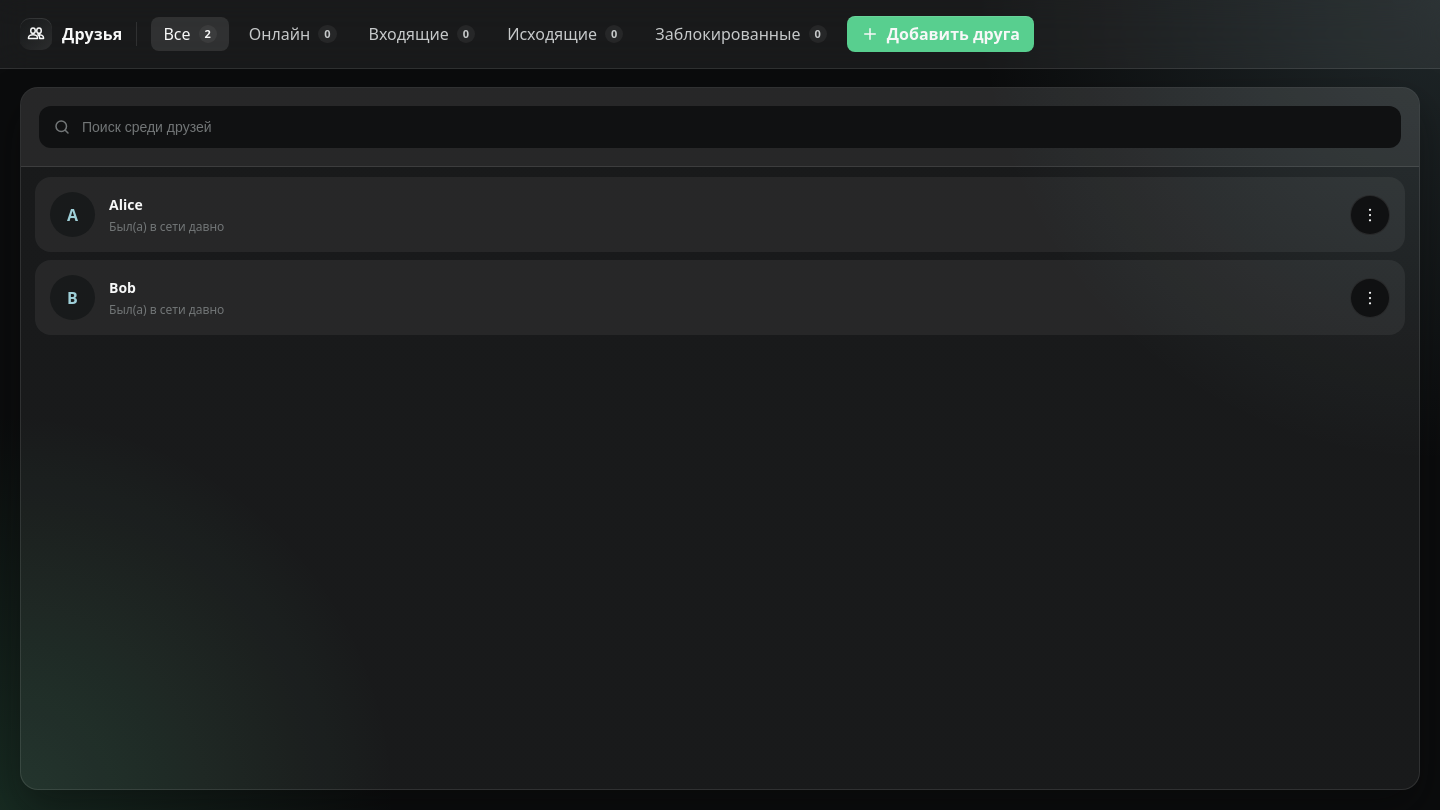
Scenario: FriendsPage › filters friends in the active tab
This screenshot has width=1440, height=810.
Step 1. Type "ali" into the field → (720, 127), box [39,106,1401,148]
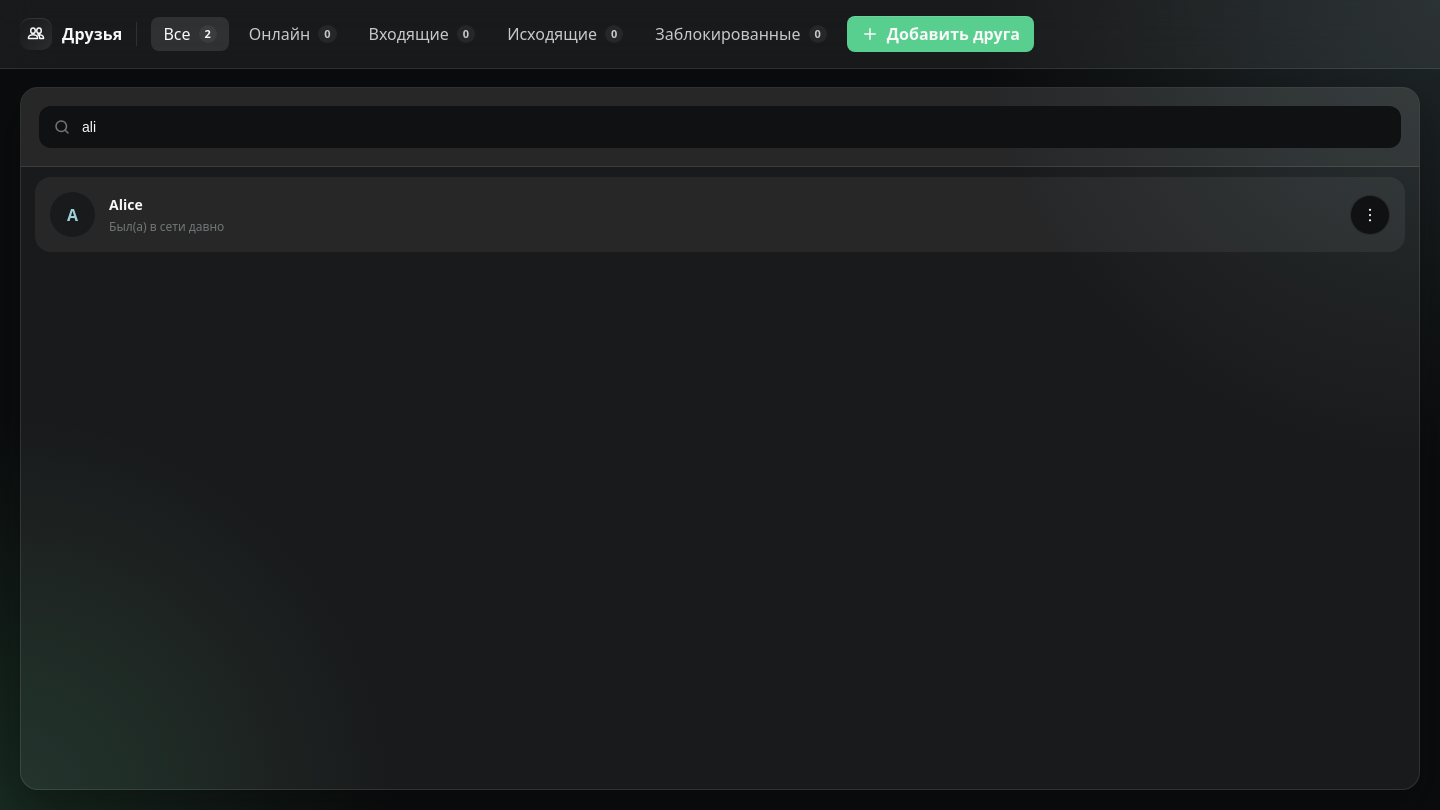
Expected: the text "Alice" is shown, [109,195,143,214]
Expected: the text "Bob" is gone
